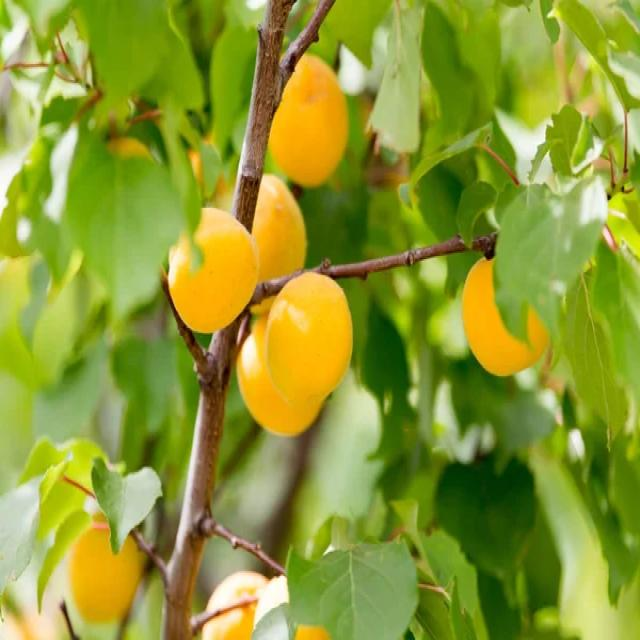kayisi: (236, 28, 368, 440)
kayisi-yapragi: (6, 0, 218, 311), (509, 111, 640, 566), (289, 512, 495, 635), (4, 424, 170, 559), (385, 0, 498, 134)
